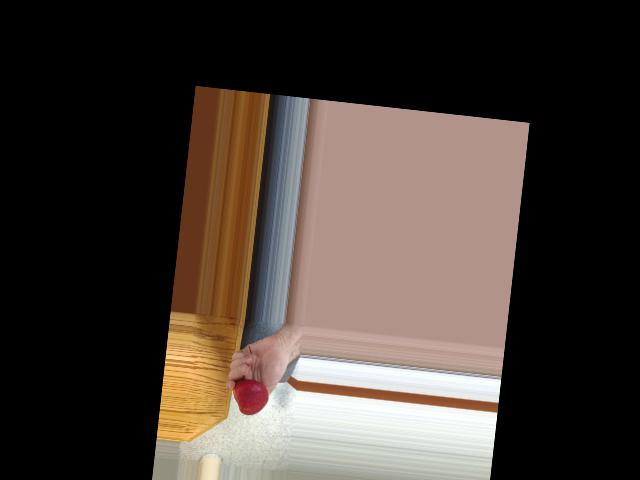apple: (230, 375, 270, 418)
